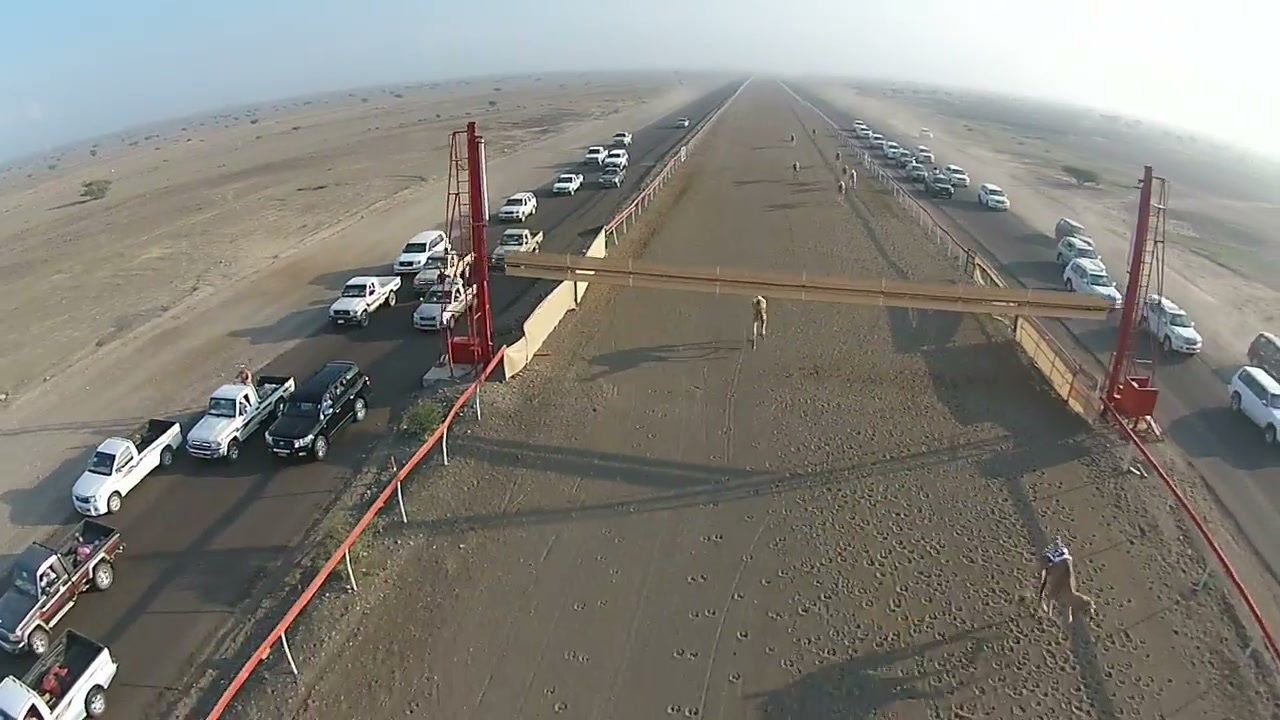animal_footprint: (749, 402, 1090, 709), (642, 426, 748, 719), (537, 480, 649, 715)
